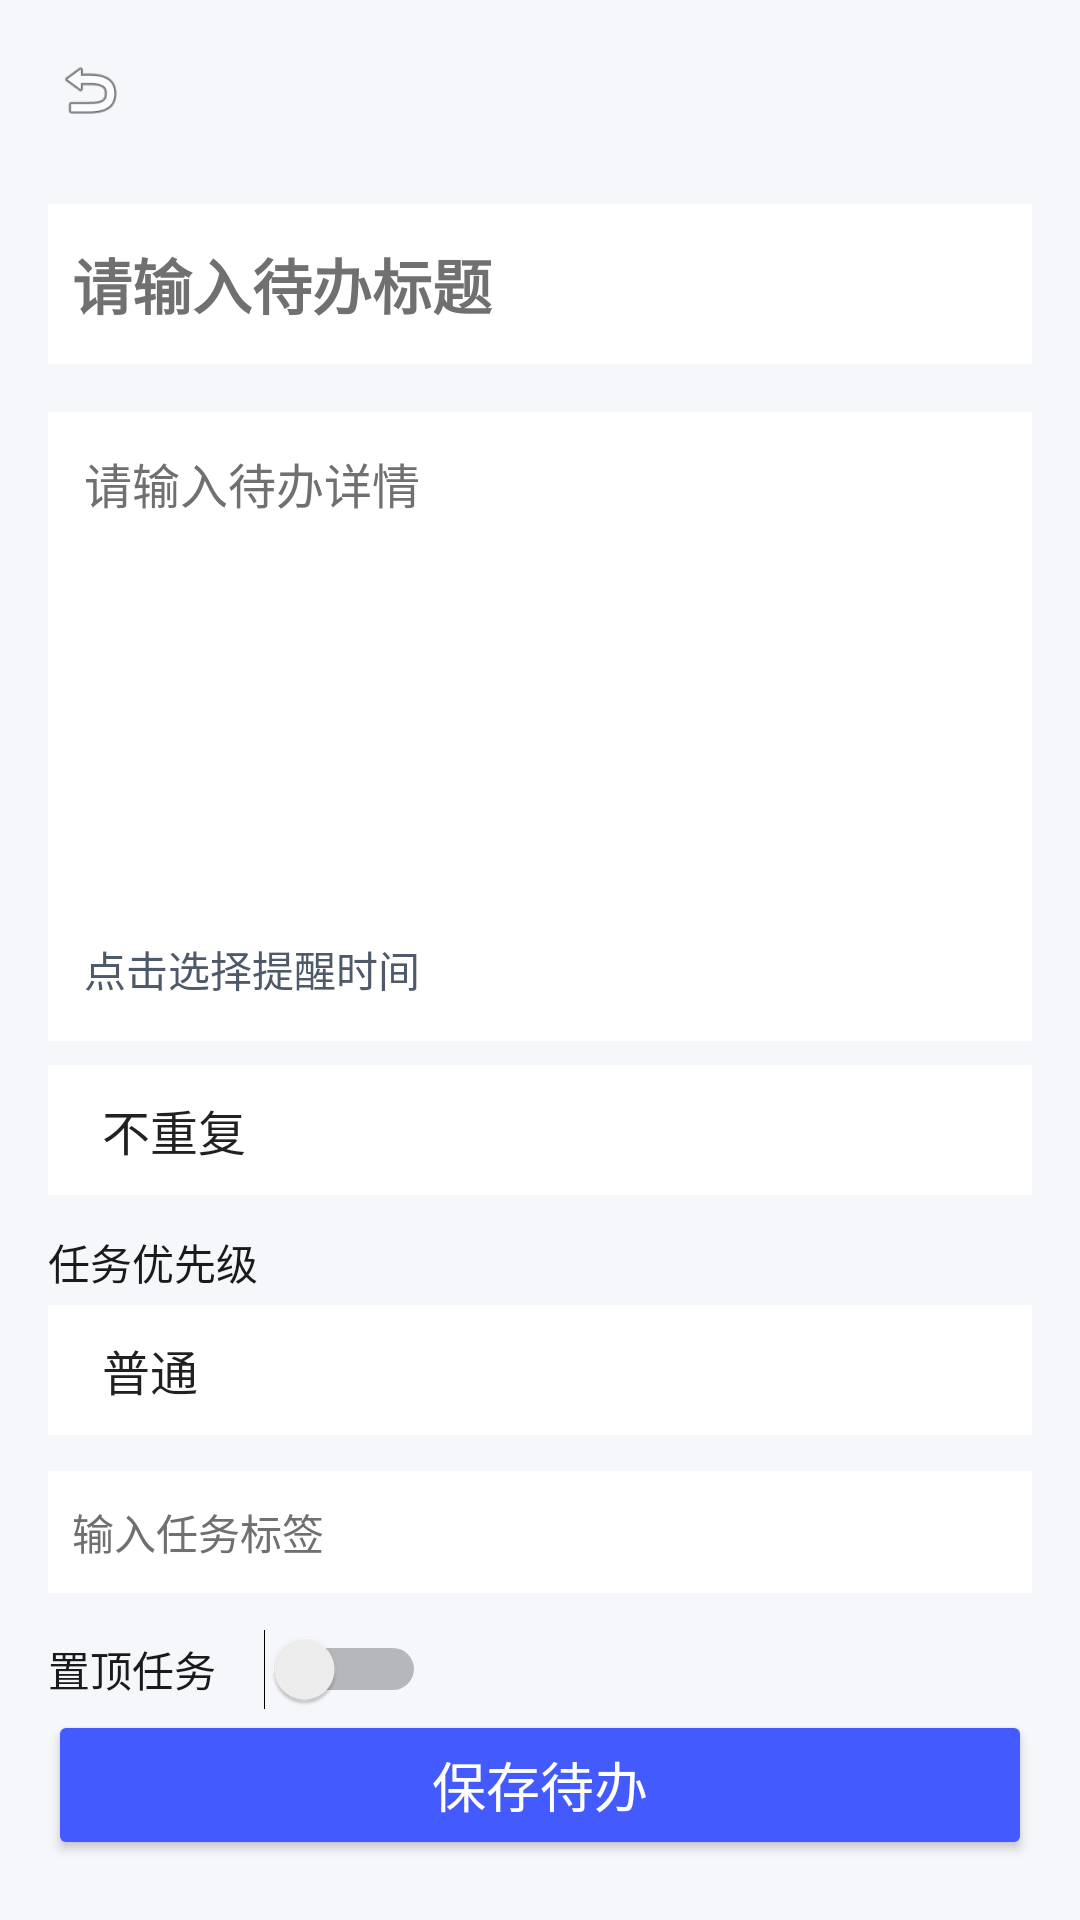

Where icons sit on this 1080w x 1920h app screen, as (x1, y1, x2, y2):
返回: (65, 67, 117, 114)
